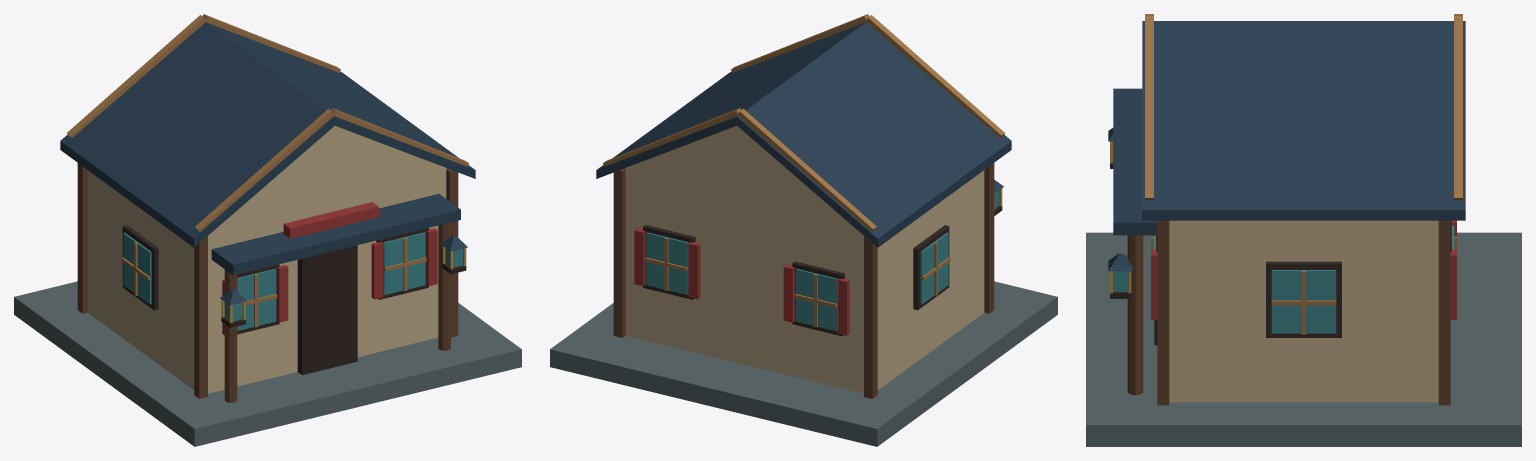
The model's file is PirateCove_HarborTavern_Standard.glb.
The picture shows the model from 3 angles, left to right: view 1: azimuth 30°, elevation 25°; view 2: azimuth 150°, elevation 25°; view 3: azimuth 270°, elevation 25°; orthographic projection. The views are drawn at different scales.
Parts seen in each view (by area): view 1: PirateCove_HarborTavern_Standard; view 2: PirateCove_HarborTavern_Standard; view 3: PirateCove_HarborTavern_Standard.
Boxes of the visible parts, bbox=[...] form: PirateCove_HarborTavern_Standard: bbox=[14, 14, 521, 446]; PirateCove_HarborTavern_Standard: bbox=[550, 14, 1057, 446]; PirateCove_HarborTavern_Standard: bbox=[1086, 14, 1521, 446].
Size of the model in its own units: 4.6 by 3.74 by 4.4.
